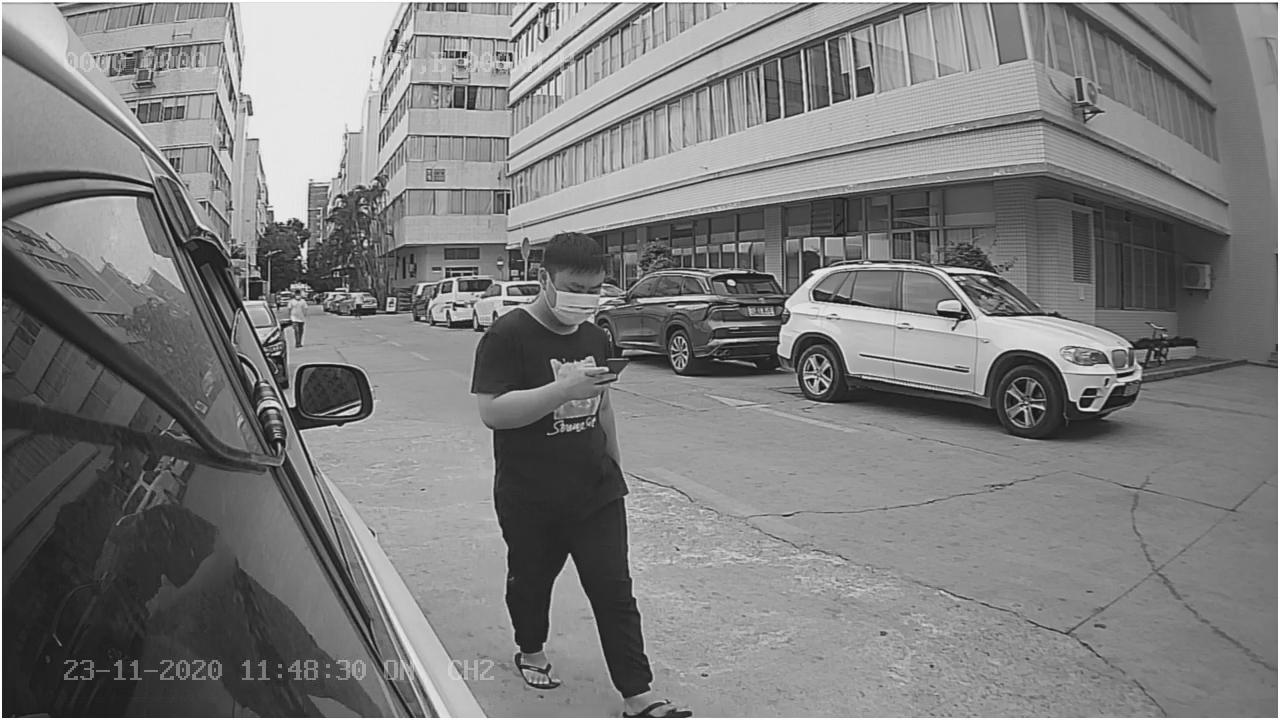person: (462, 227, 710, 720)
